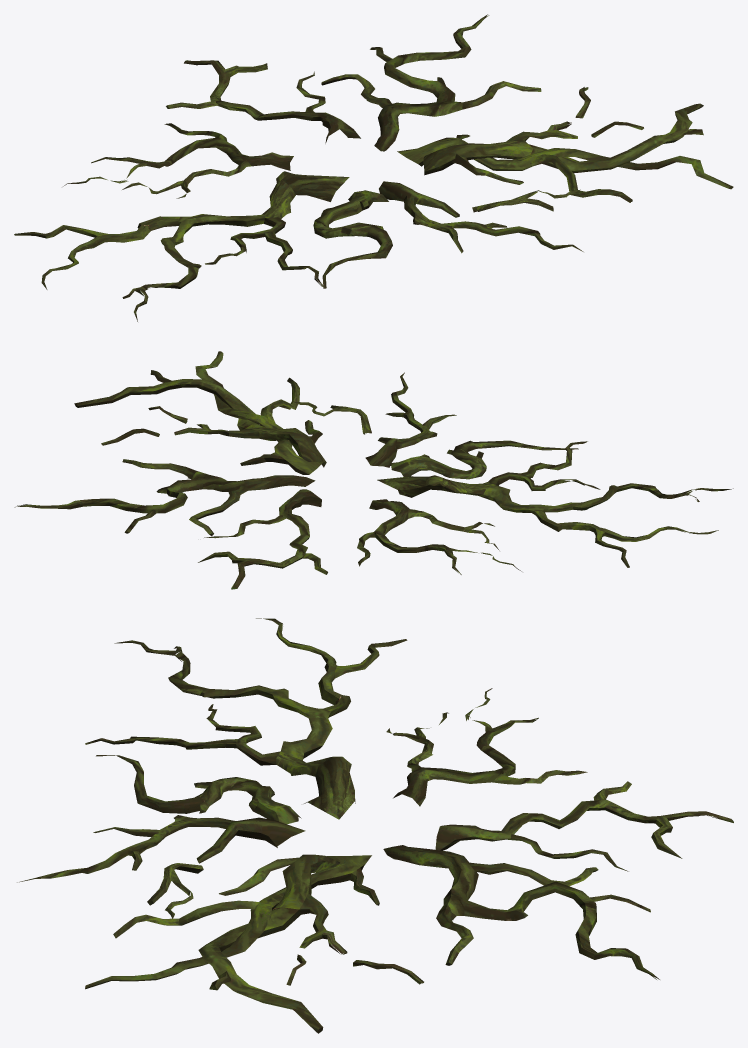
File: 5004_Item_shuteng_1.FBX
3 renders of one model, top to bottom at view 1: azimuth 30°, elevation 25°; view 2: azimuth 150°, elevation 25°; view 3: azimuth 270°, elevation 25°, orthographic. The views are drawn at different scales.
Visible parts, largest first — view 1: 5004_Item_shuteng_1; view 2: 5004_Item_shuteng_1; view 3: 5004_Item_shuteng_1.
Part boxes in pixels (bbox=[...]): 5004_Item_shuteng_1: bbox=[14, 14, 733, 321]; 5004_Item_shuteng_1: bbox=[14, 351, 733, 589]; 5004_Item_shuteng_1: bbox=[17, 618, 733, 1033].
Size of the model in its own units: 2038 by 86.39 by 1519.
